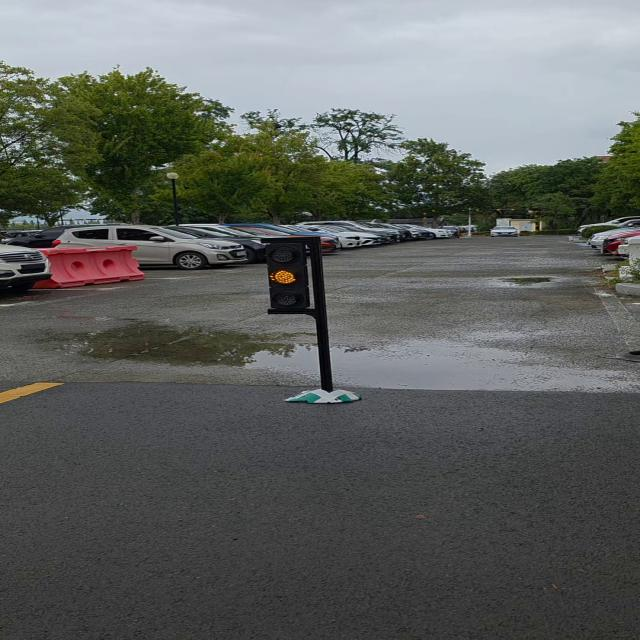yellow: (264, 241, 310, 315)
